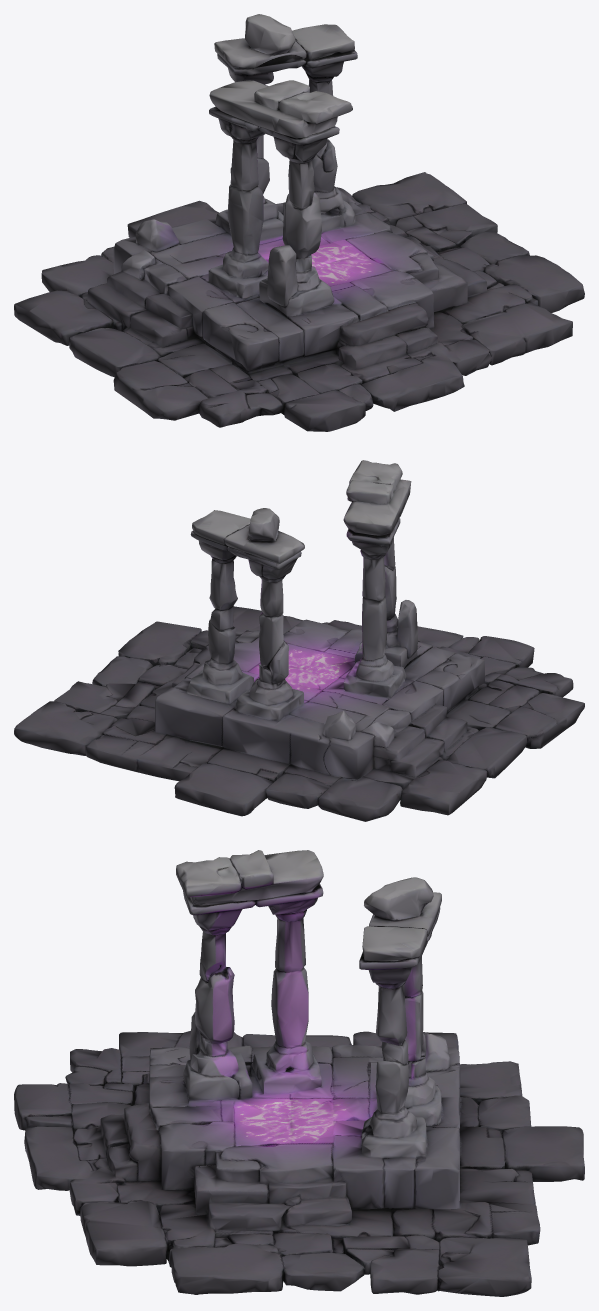
Rendered from ruin_temple.glb.
The picture shows the model from 3 angles, top to bottom: view 1: azimuth 30°, elevation 25°; view 2: azimuth 150°, elevation 25°; view 3: azimuth 270°, elevation 25°; orthographic projection. The views are drawn at different scales.
Visible parts, largest first — view 1: tripo_node_f1b5a39f-f961-41a7-bdc2-cadcb45ffc1d; view 2: tripo_node_f1b5a39f-f961-41a7-bdc2-cadcb45ffc1d; view 3: tripo_node_f1b5a39f-f961-41a7-bdc2-cadcb45ffc1d.
Part boxes in pixels (<box>): tripo_node_f1b5a39f-f961-41a7-bdc2-cadcb45ffc1d: <box>14,14,584,431</box>; tripo_node_f1b5a39f-f961-41a7-bdc2-cadcb45ffc1d: <box>14,460,584,821</box>; tripo_node_f1b5a39f-f961-41a7-bdc2-cadcb45ffc1d: <box>14,850,584,1296</box>.
Size of the model in its own units: 0.9993 by 0.5609 by 0.9817.
Materials: 1 (1 with a texture image).
